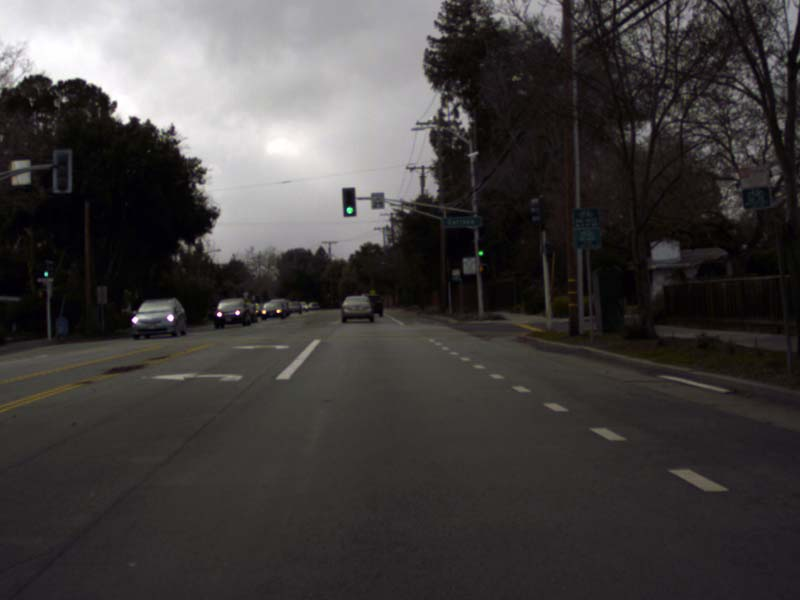Green: (342, 187, 355, 215), (42, 260, 49, 278), (477, 239, 484, 256)
